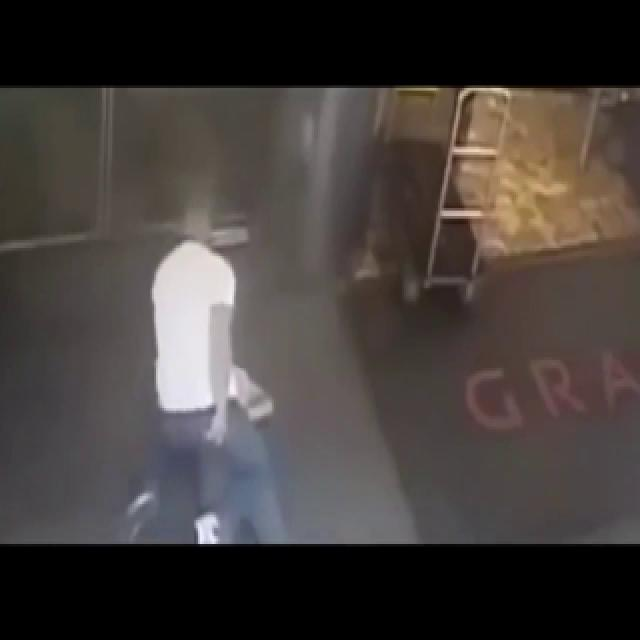arrest: (138, 71, 322, 544)
